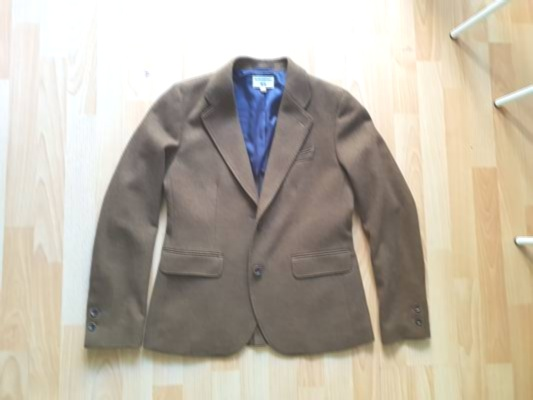Blazer: (105, 68, 435, 354)
